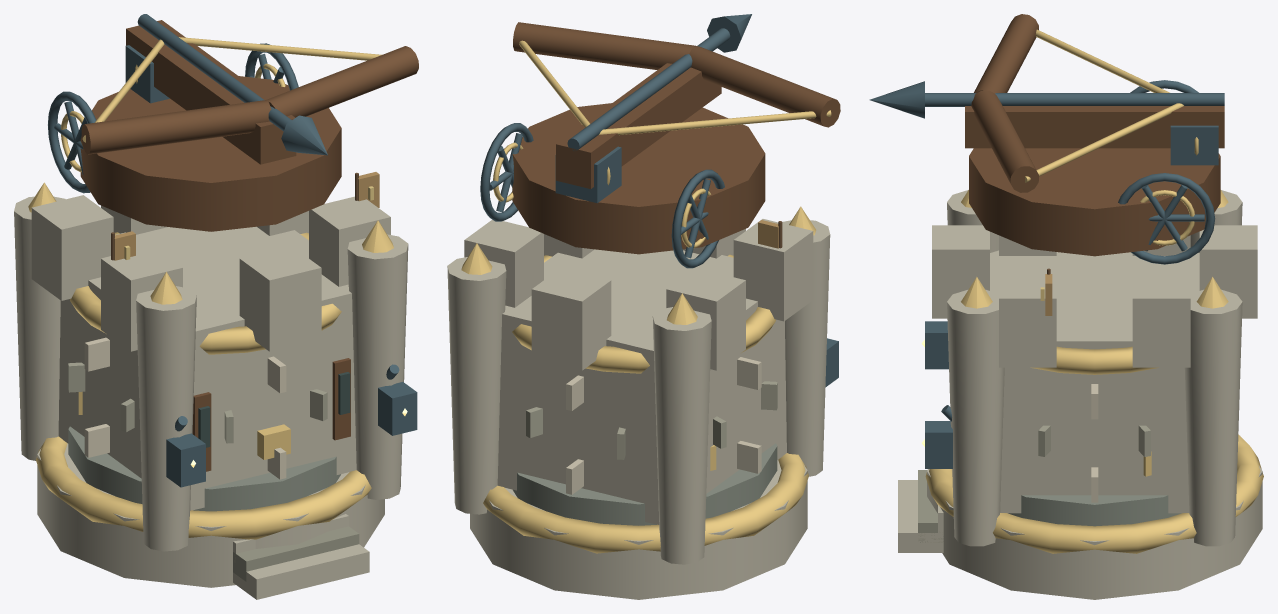
Rendered from tower-ballista-3-base.glb.
3 views of the same model, side by side, from view 1: azimuth 30°, elevation 25°; view 2: azimuth 150°, elevation 25°; view 3: azimuth 270°, elevation 25° (orthographic). The views are drawn at different scales.
Parts seen in each view (by area): view 1: Foundation, Turret, ballista-L3-base; view 2: Foundation, Turret, ballista-L3-base; view 3: Foundation, Turret, ballista-L3-base.
Boxes of the visible parts, box(x1,y1,x2,y2) form: Foundation: box(14, 172, 417, 599); Turret: box(48, 14, 418, 231); ballista-L3-base: box(37, 426, 384, 587); Foundation: box(447, 206, 838, 564); Turret: box(480, 14, 840, 268); ballista-L3-base: box(470, 443, 807, 599); Foundation: box(898, 190, 1263, 553); Turret: box(869, 14, 1224, 264); ballista-L3-base: box(927, 466, 1262, 599).
Size of the model in its own units: 1.83 by 2.47 by 1.98.
